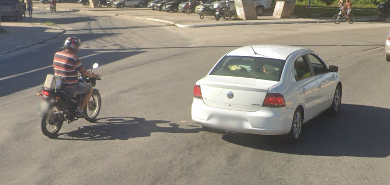car: (188, 39, 348, 147)
